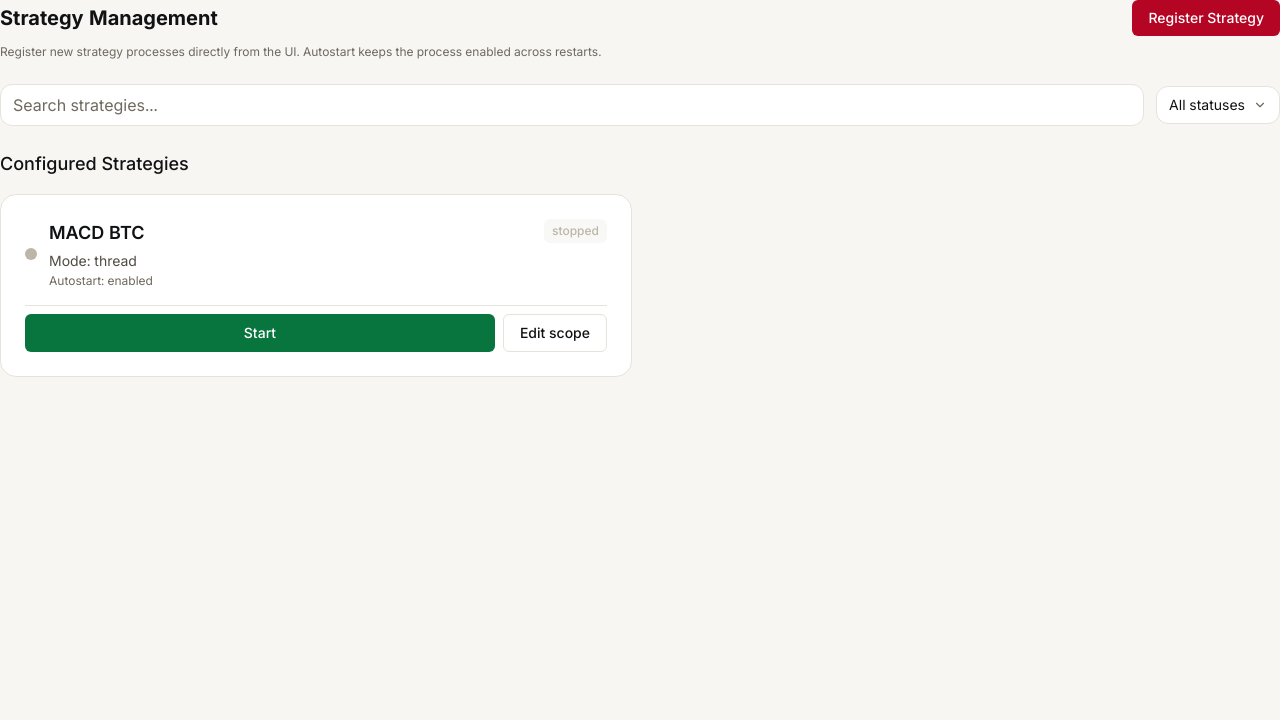
Scenario: Strategies › opens the scope editor for a scoped strategy config that has no parent template
Click the button "Edit scope".
click(555, 333)  # box [503, 314, 607, 352]
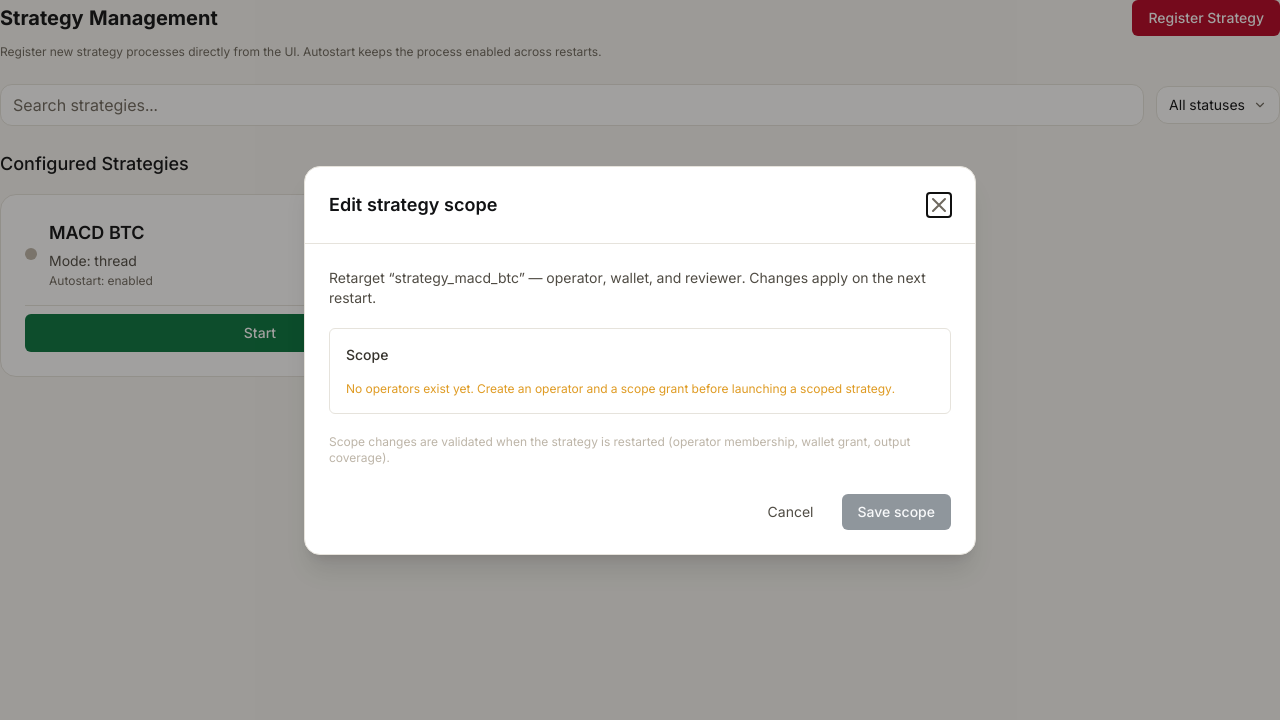
expect the heading "Edit strategy scope" is shown: met, box [329, 190, 497, 218]
